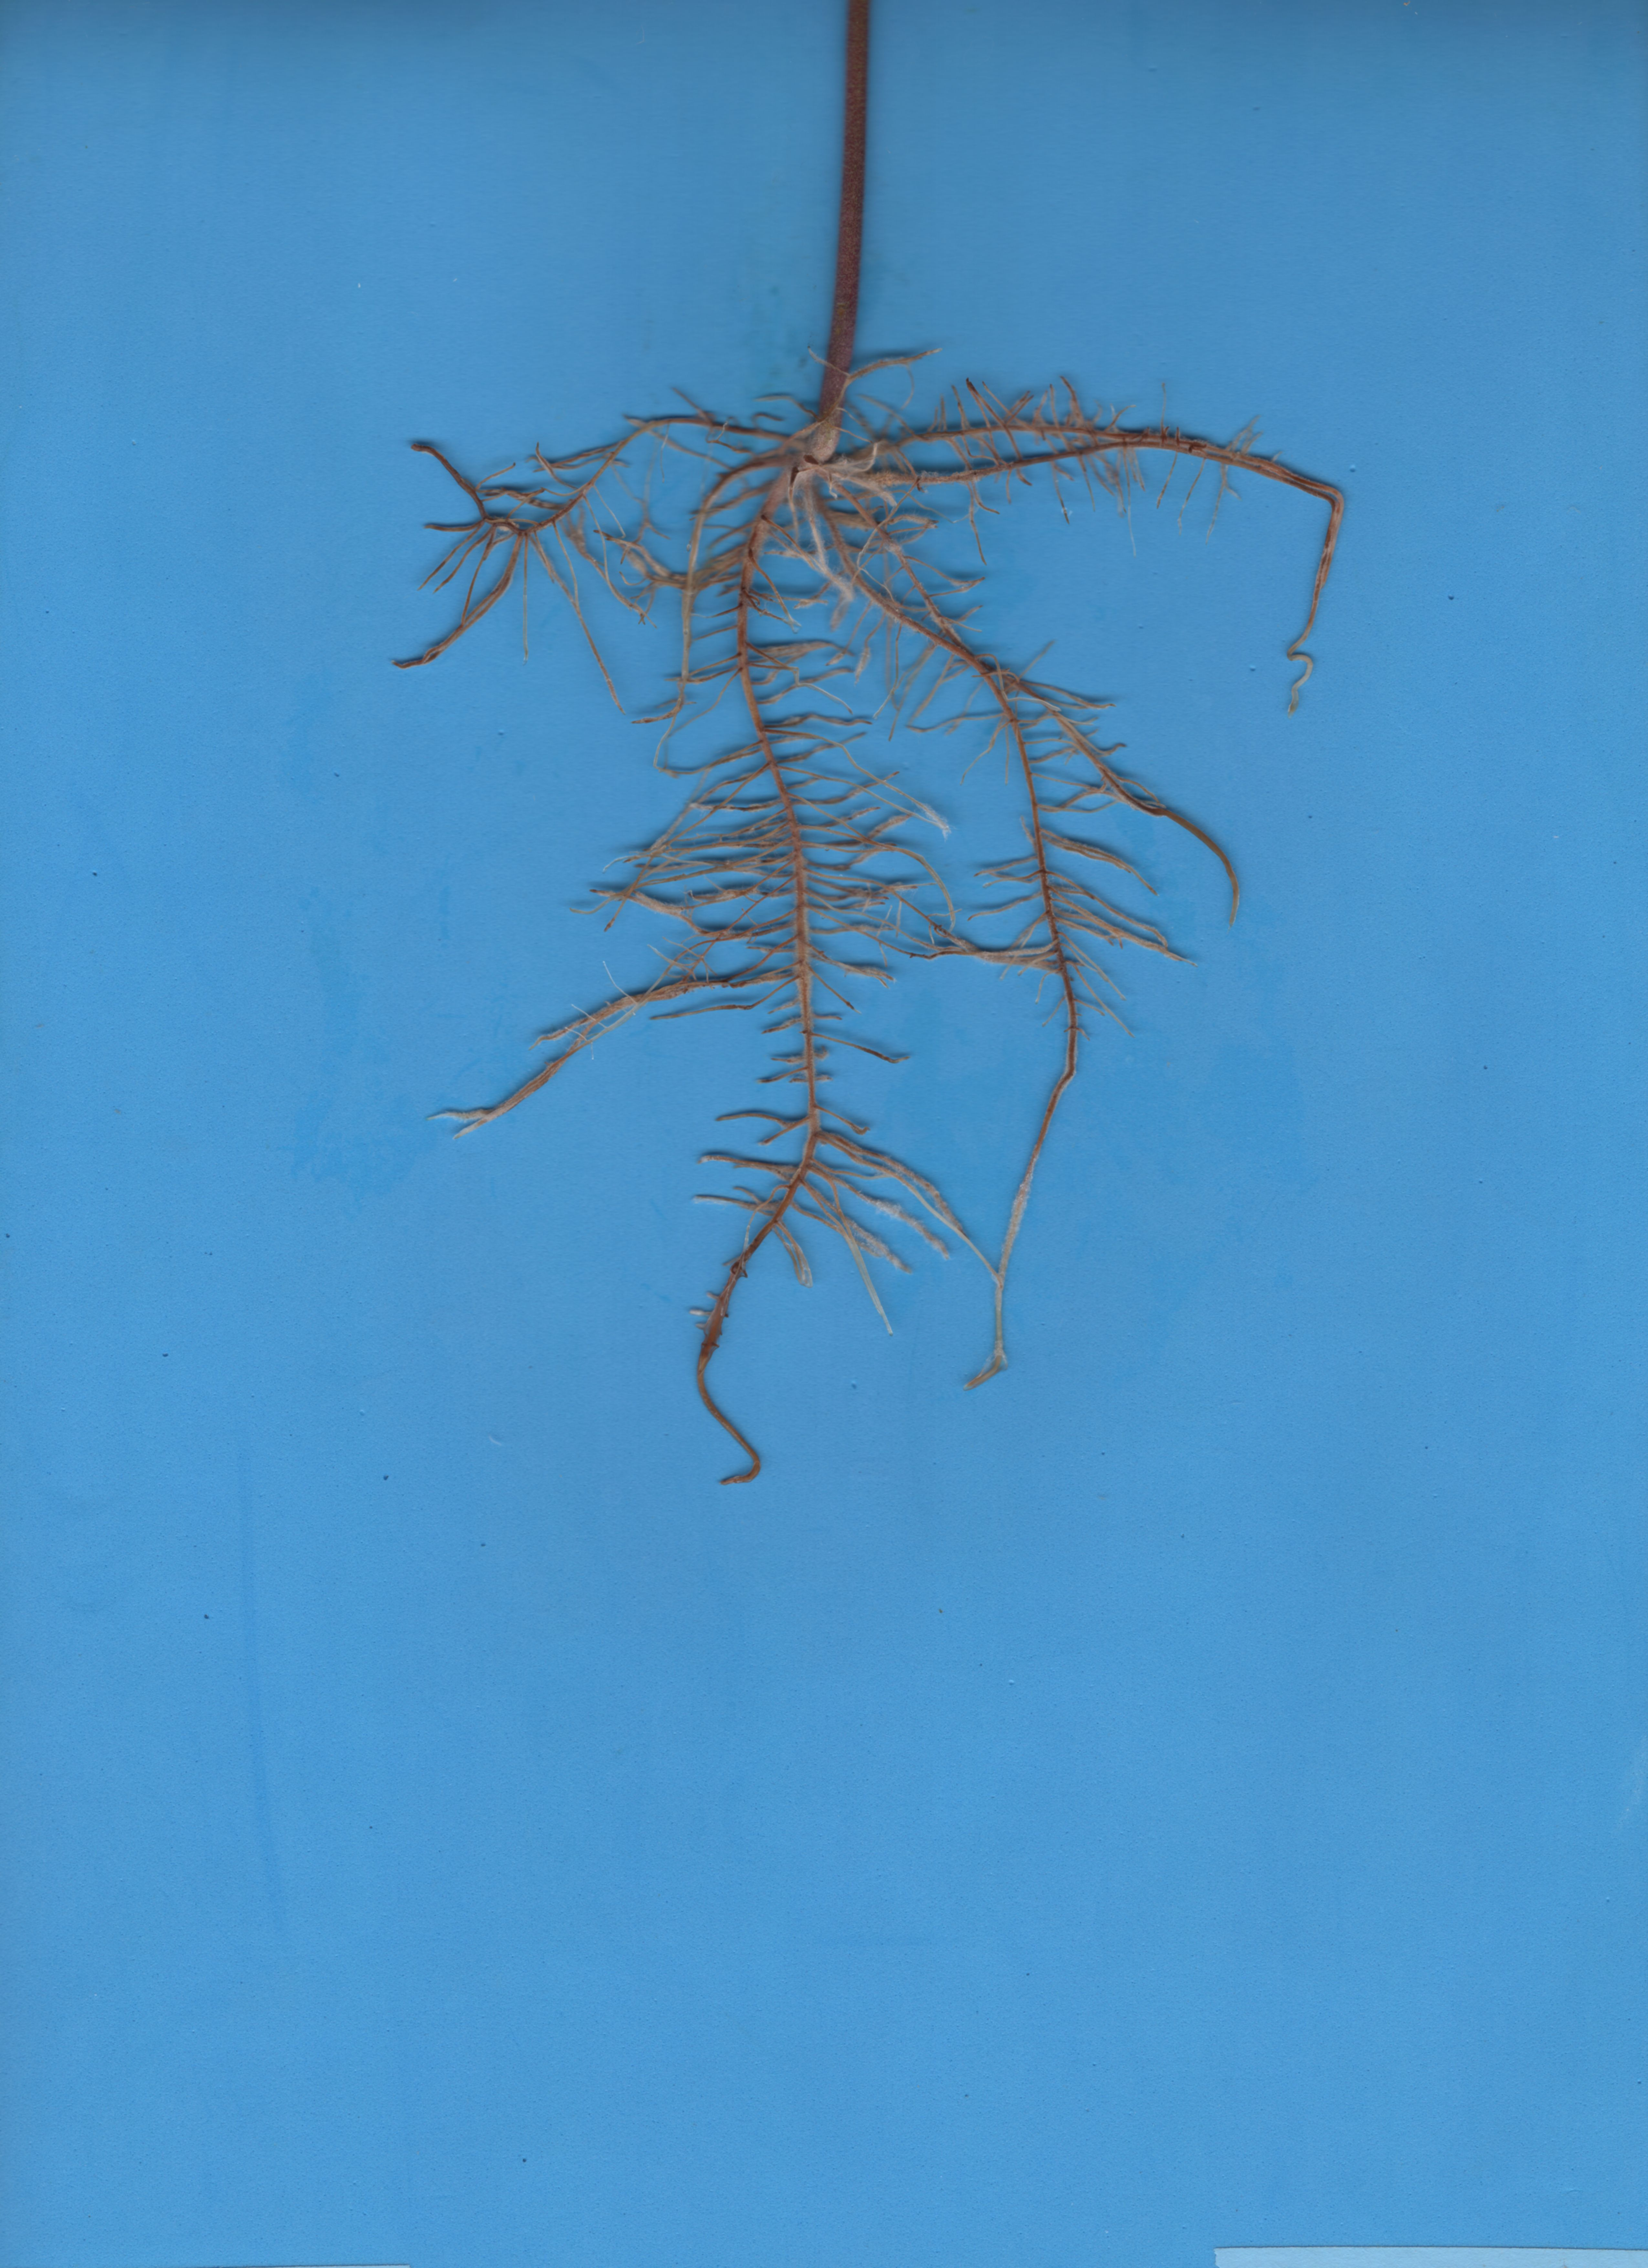CROWNDISEASE: (762, 11, 910, 438)
ROOTDISEASE: (257, 347, 1407, 1615)
